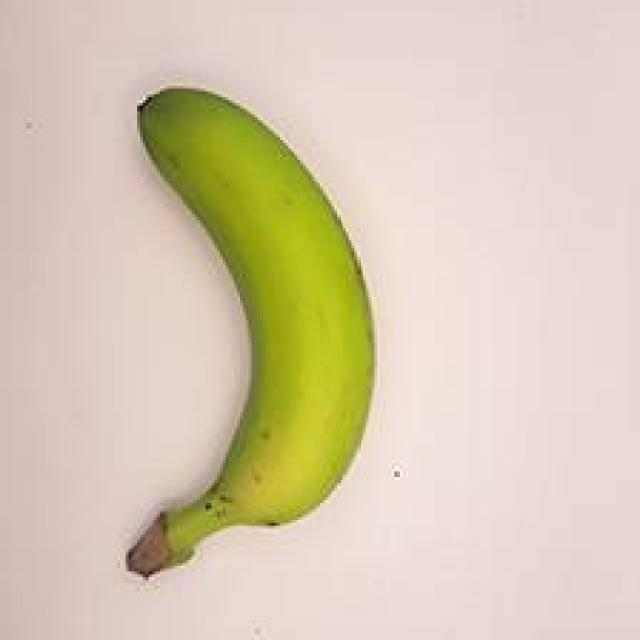Unripe: (86, 68, 394, 580)
